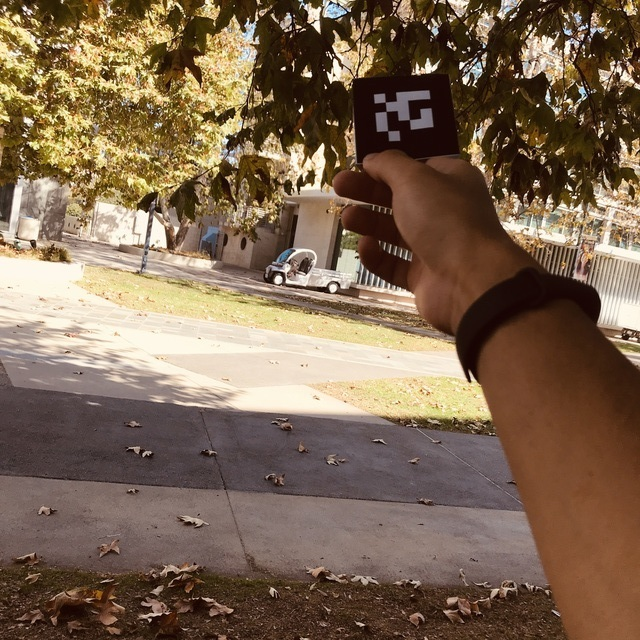ARTag: (350, 74, 462, 168)
